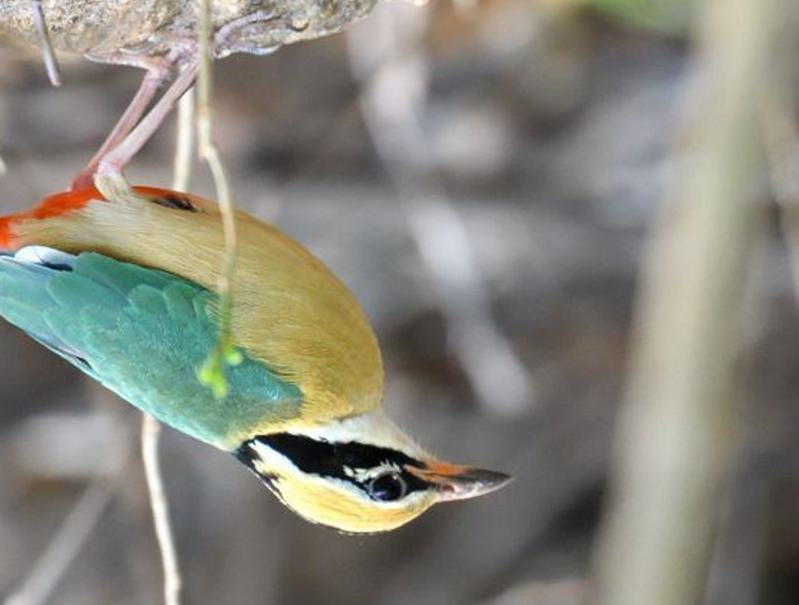pitta: (1, 72, 524, 542)
